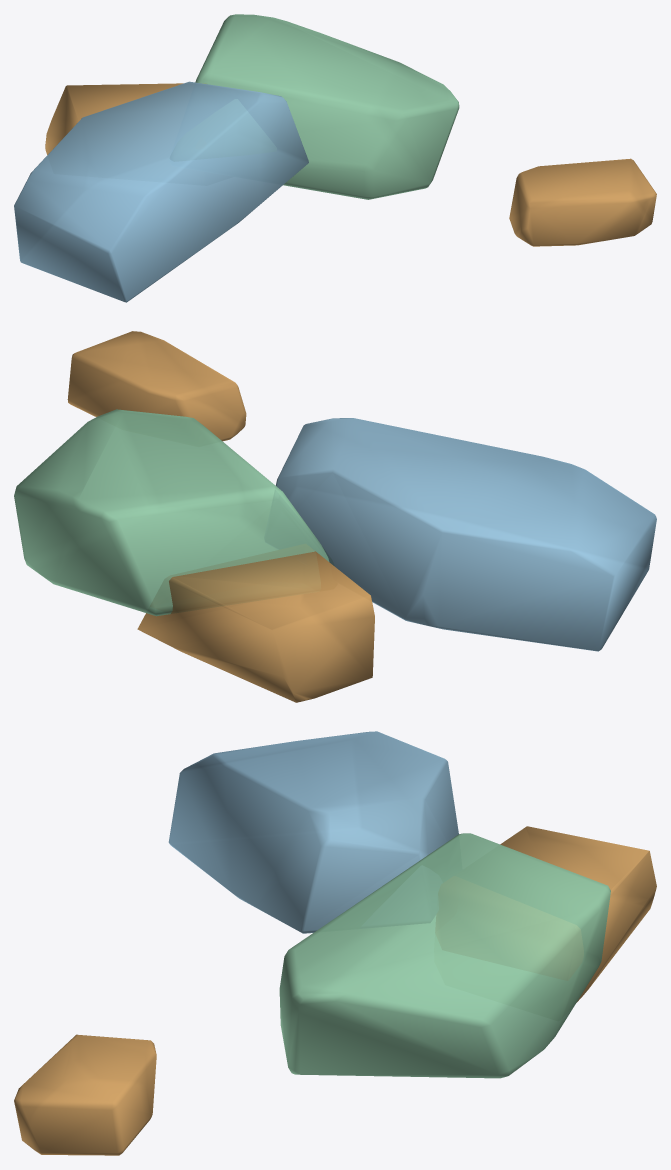
File: shore_sea_glass_b_lod1.glb
3 views of the same model, one above another, from view 1: azimuth 30°, elevation 25°; view 2: azimuth 150°, elevation 25°; view 3: azimuth 270°, elevation 25° (orthographic). The views are drawn at different scales.
Parts seen in each view (by area): view 1: shore_sea_glass_b.001; view 2: shore_sea_glass_b.001; view 3: shore_sea_glass_b.001.
Part boxes in pixels (x1,y1,x2,y2): shore_sea_glass_b.001: [14, 14, 656, 302]; shore_sea_glass_b.001: [14, 331, 656, 702]; shore_sea_glass_b.001: [14, 731, 656, 1155].
Size of the model in its own units: 3.02 by 0.6733 by 2.39.
